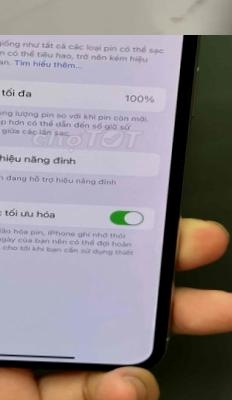scratch: (175, 153, 200, 177), (186, 68, 201, 92)
